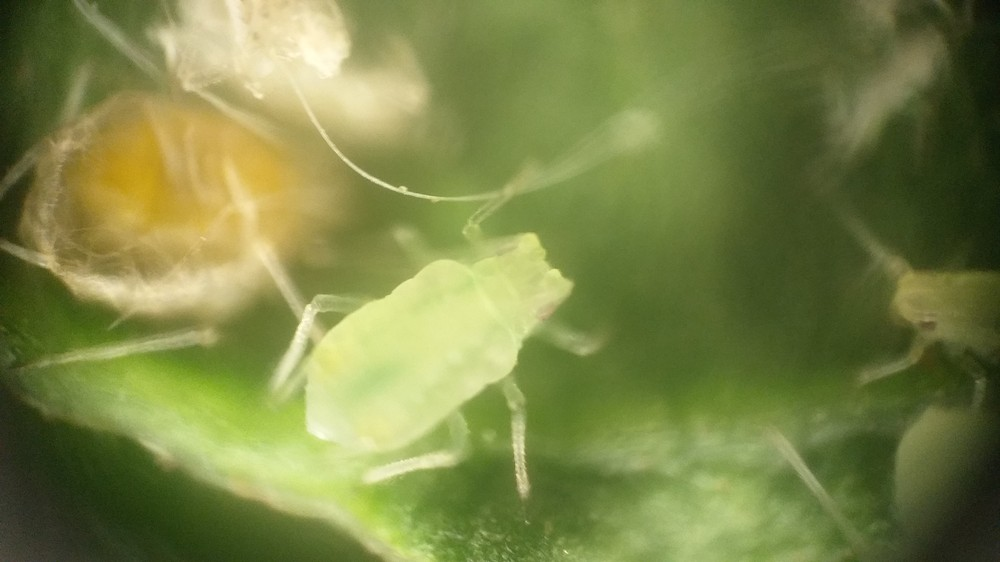Pulgon: (268, 166, 656, 531), (1, 68, 411, 378)
